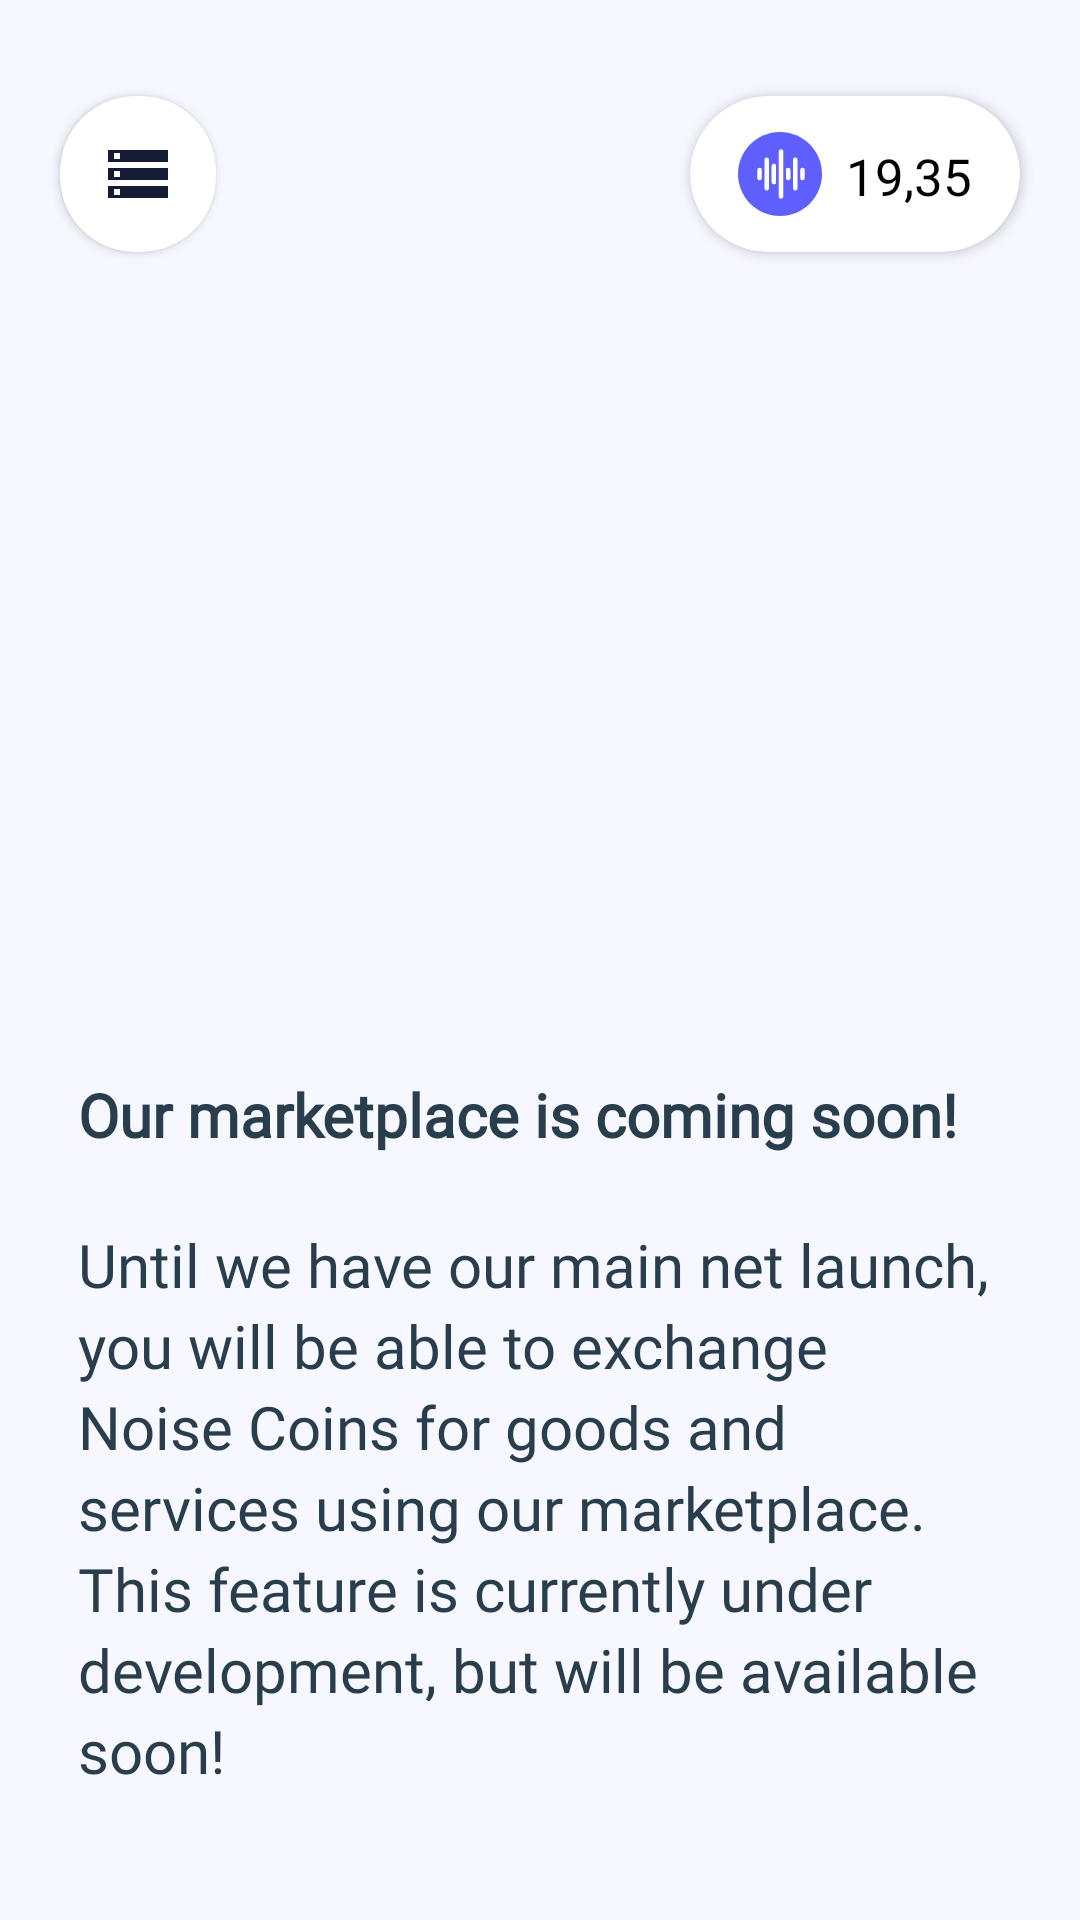

Icons on this 1080px×1920px Android screen, each with the point to tap as point (x, y):
storage: point (138, 174)
